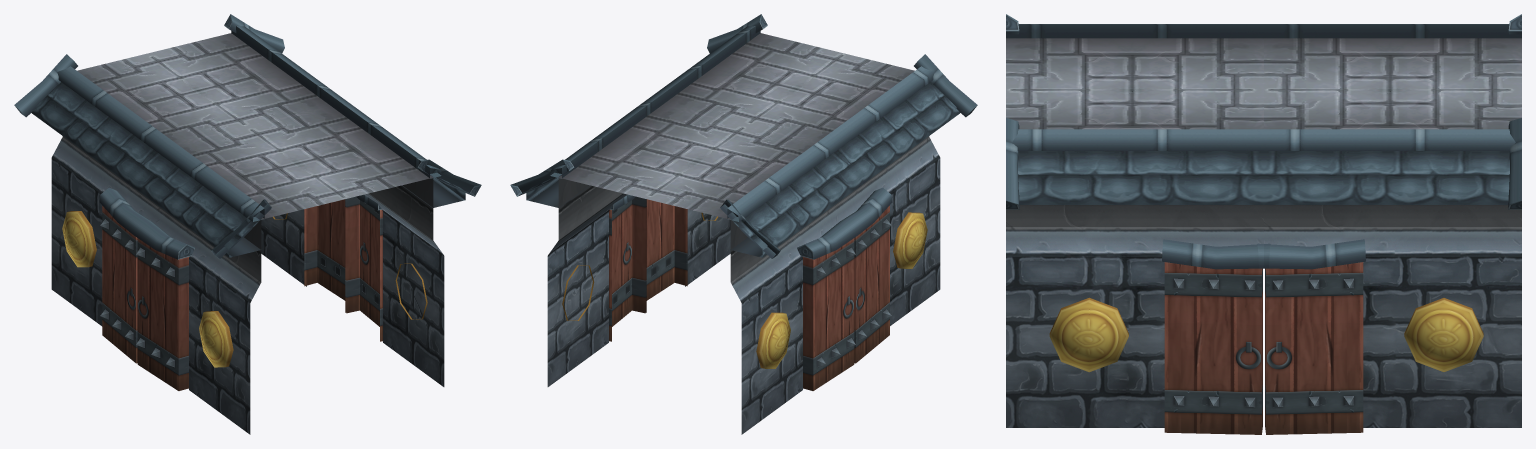
Rendered from castle_wall_straight_05.fbx.
3 views of the same model, side by side, from view 1: azimuth 30°, elevation 25°; view 2: azimuth 150°, elevation 25°; view 3: azimuth 270°, elevation 25° (orthographic). The views are drawn at different scales.
Visible parts, largest first — view 1: castle_wall_straight_05; view 2: castle_wall_straight_05; view 3: castle_wall_straight_05.
Boxes of the visible parts, x1,y1,x2,y2 form: castle_wall_straight_05: (14,14,481,434); castle_wall_straight_05: (510,14,977,434); castle_wall_straight_05: (1006,14,1521,434).
Size of the model in its own units: 5.16 by 4.25 by 6.61.
1 material, 1 textured.
